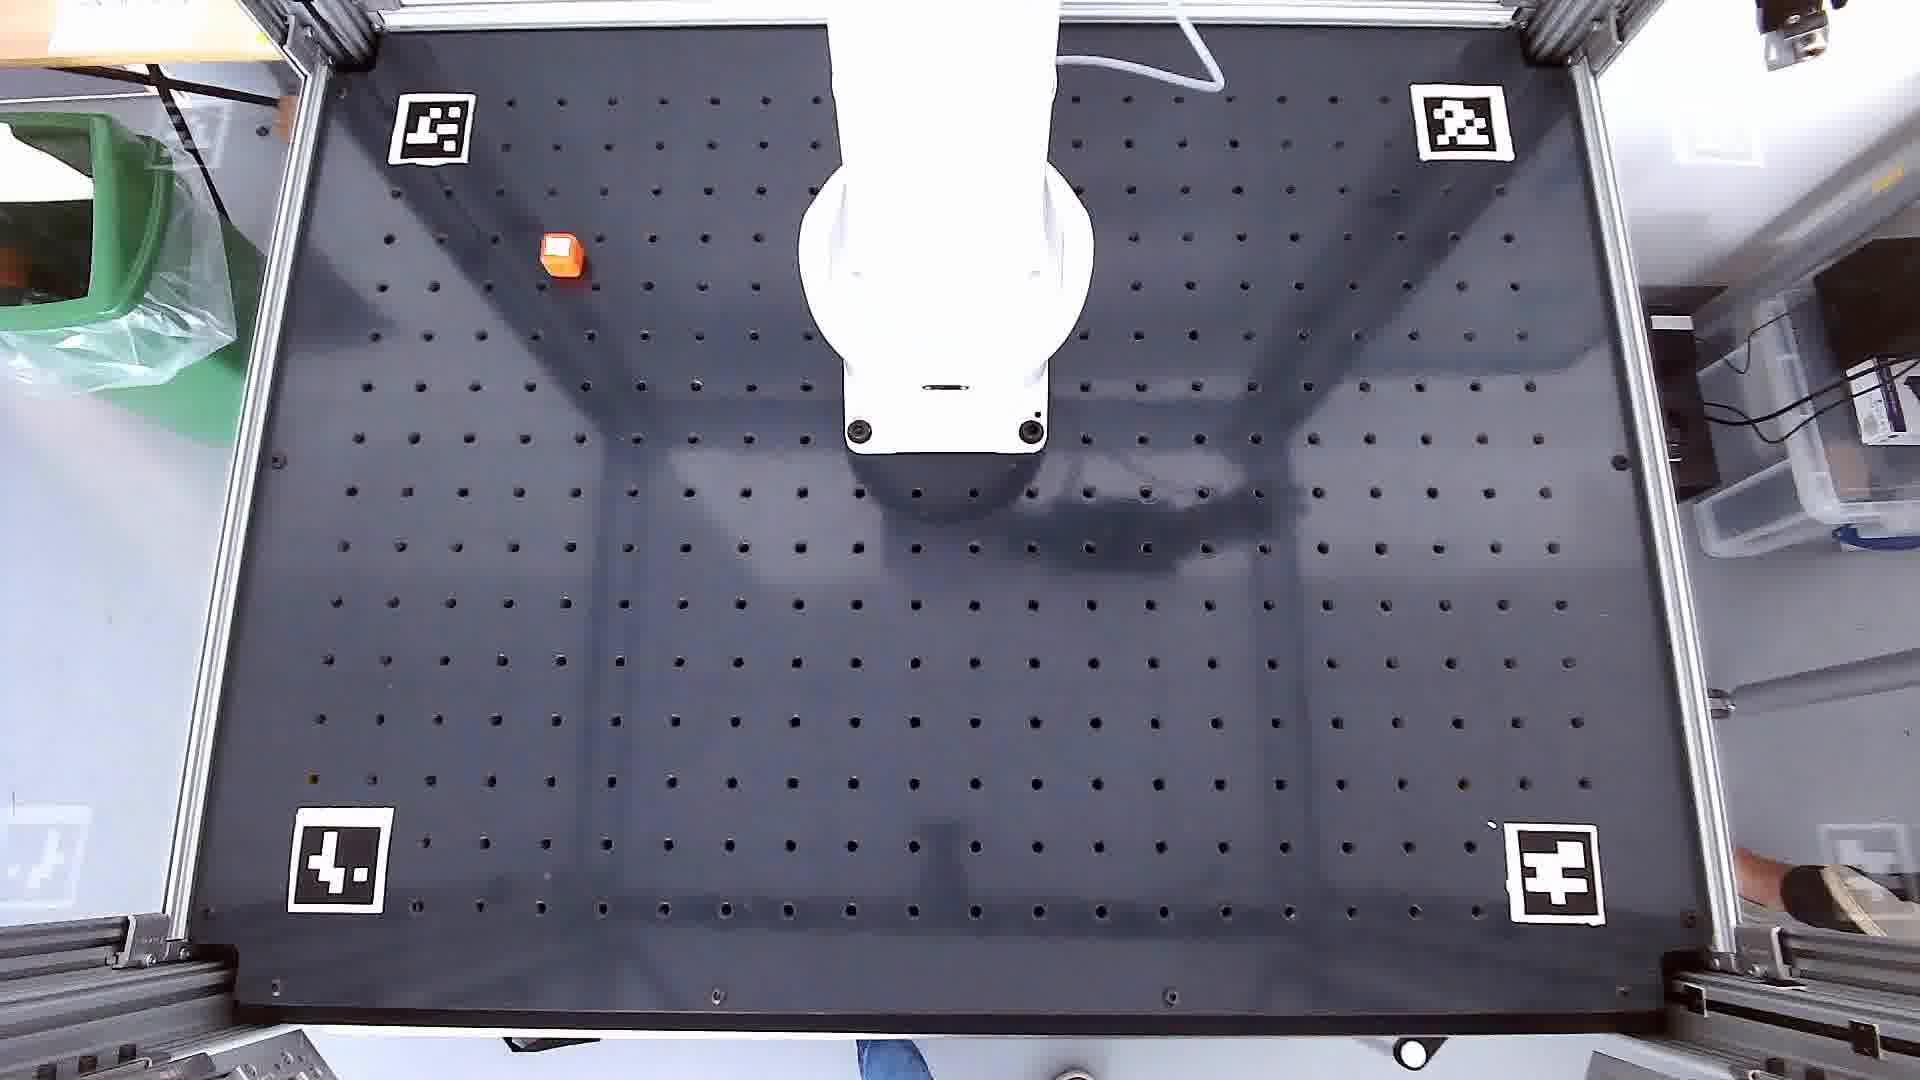sticker: (534, 227, 593, 284)
white: (542, 233, 574, 258)
